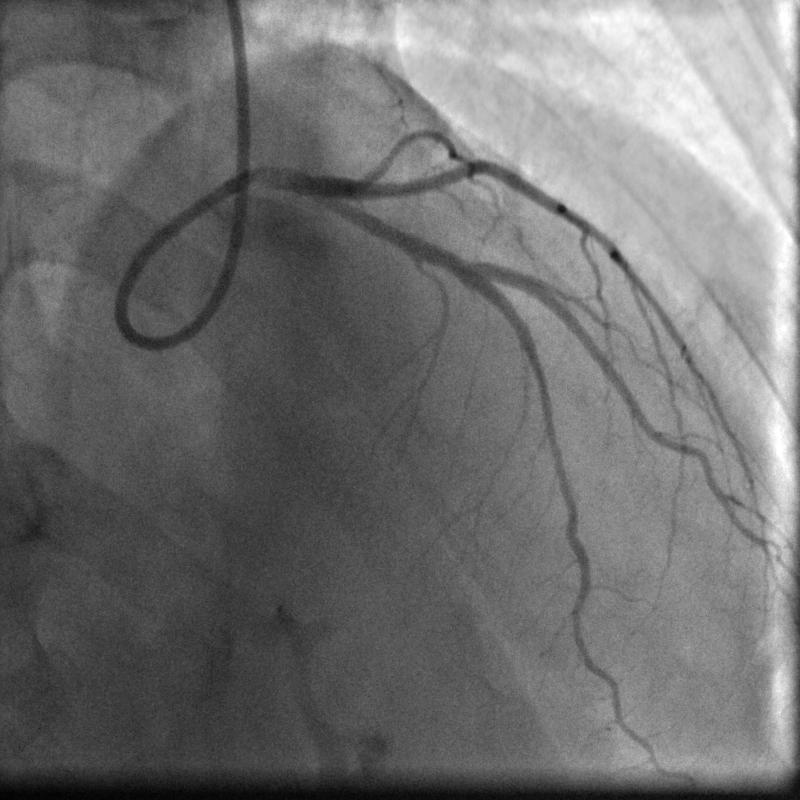Stenosis: (442, 242, 472, 282)
